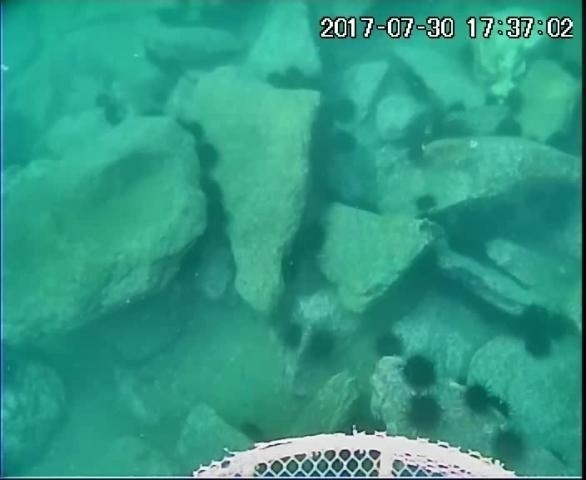echinus: (197, 181, 234, 239), (337, 406, 389, 445), (487, 426, 531, 471), (402, 392, 446, 435), (399, 352, 441, 392), (543, 124, 584, 164), (291, 217, 332, 255), (459, 380, 499, 418), (304, 326, 340, 365), (519, 327, 557, 363), (276, 244, 305, 290), (542, 309, 578, 346), (323, 127, 360, 161), (370, 330, 407, 363), (191, 140, 224, 177), (516, 300, 551, 334), (236, 419, 272, 451), (195, 175, 228, 208), (275, 320, 307, 354), (491, 114, 526, 145), (175, 115, 210, 146), (441, 118, 475, 146), (501, 86, 530, 118), (283, 63, 309, 90), (336, 93, 360, 121), (263, 68, 288, 92), (410, 191, 437, 213), (103, 101, 125, 127), (88, 84, 110, 110), (318, 99, 336, 130), (448, 96, 469, 116), (481, 90, 502, 110), (411, 83, 432, 103), (405, 141, 426, 161)
